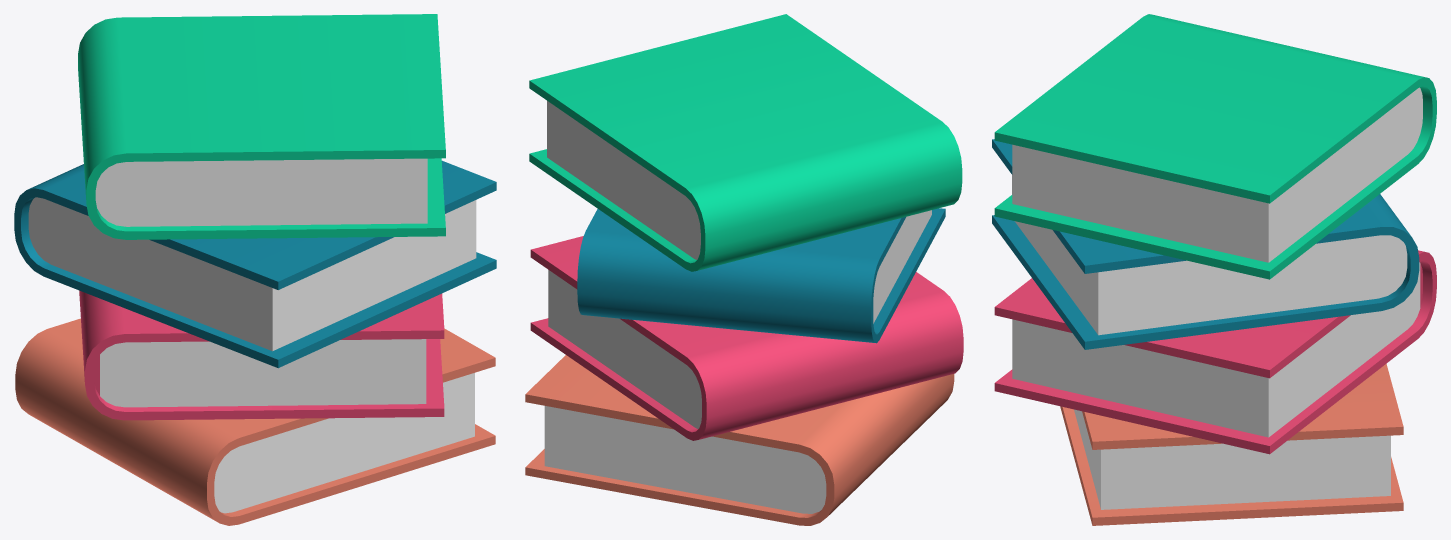
File: books.glb
3 renders of one model, left to right at view 1: azimuth 30°, elevation 25°; view 2: azimuth 150°, elevation 25°; view 3: azimuth 270°, elevation 25°, orthographic. The views are drawn at different scales.
Visible parts, largest first — view 1: Cube.003, Cube.004, Cube.002, Cube.001; view 2: Cube.003, Cube.002, Cube.001, Cube.004; view 3: Cube.003, Cube.001, Cube.004, Cube.002.
Part boxes in pixels (<box>): Cube.003: <box>78,14,445,239</box>; Cube.004: <box>14,160,496,368</box>; Cube.002: <box>15,318,495,525</box>; Cube.001: <box>79,290,444,420</box>; Cube.003: <box>529,14,962,271</box>; Cube.002: <box>525,355,954,525</box>; Cube.001: <box>530,236,963,440</box>; Cube.004: <box>577,208,945,343</box>; Cube.003: <box>994,14,1436,279</box>; Cube.001: <box>994,250,1436,454</box>; Cube.004: <box>992,139,1419,349</box>; Cube.002: <box>1060,364,1403,525</box>.
Size of the model in its own units: 5.48 by 4.56 by 5.31.
